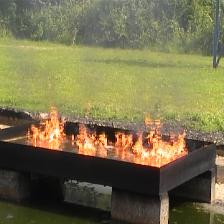fire: (115, 113, 188, 162), (72, 103, 113, 150), (26, 108, 68, 143)
